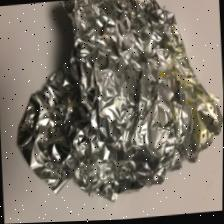metal: (7, 0, 224, 203)
